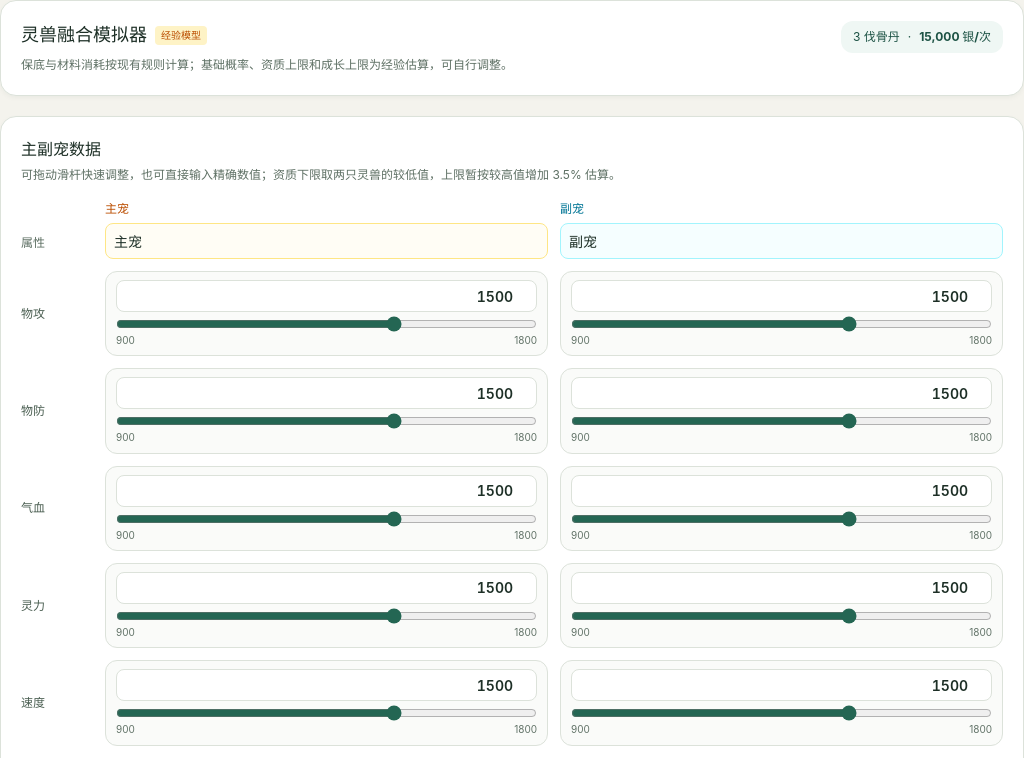
Test case: SpiritBeastFusionSimulator › 支持用滑杆调整主副宠资质，并与数字输入框保持同步
The width and height of the screenshot is (1024, 758).
Set the slider named "主宠物攻资质滑杆" to "1300" at (304, 324), box [116,320,537,328]
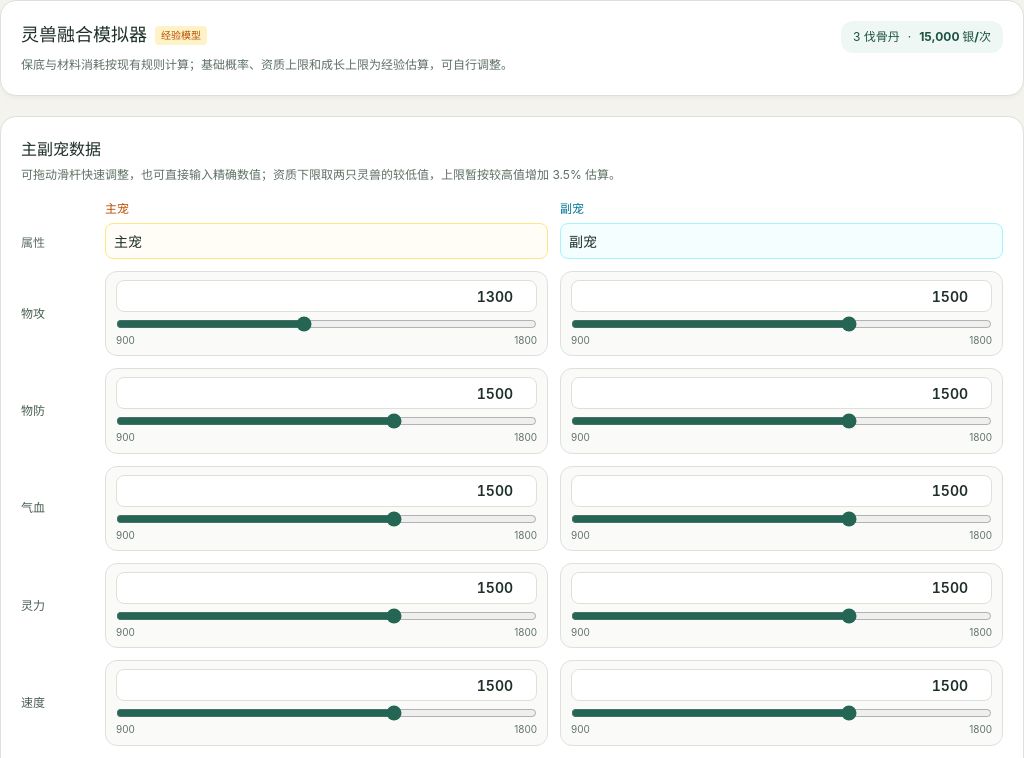
Expected: the number field named "主宠物攻资质" holds "1300", [116,280,537,312]
Replace the text in the number field named "副宠物攻资质" with "1450" at (782, 296), box [571,280,992,312]
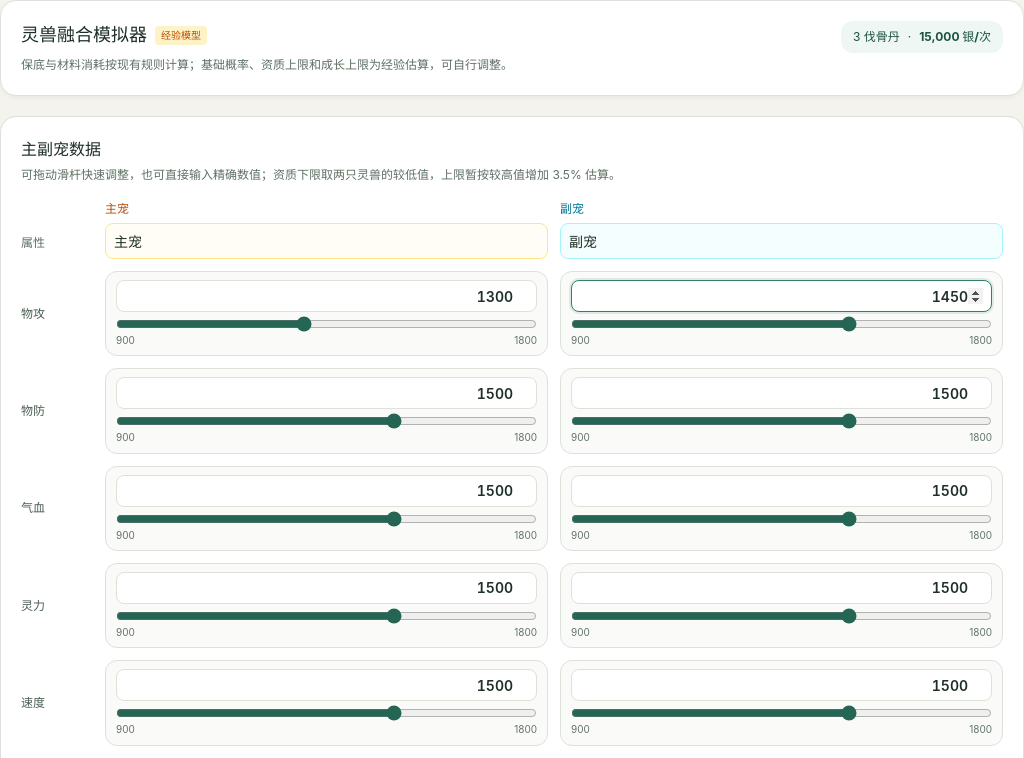
Press Tab
(page scrolled)
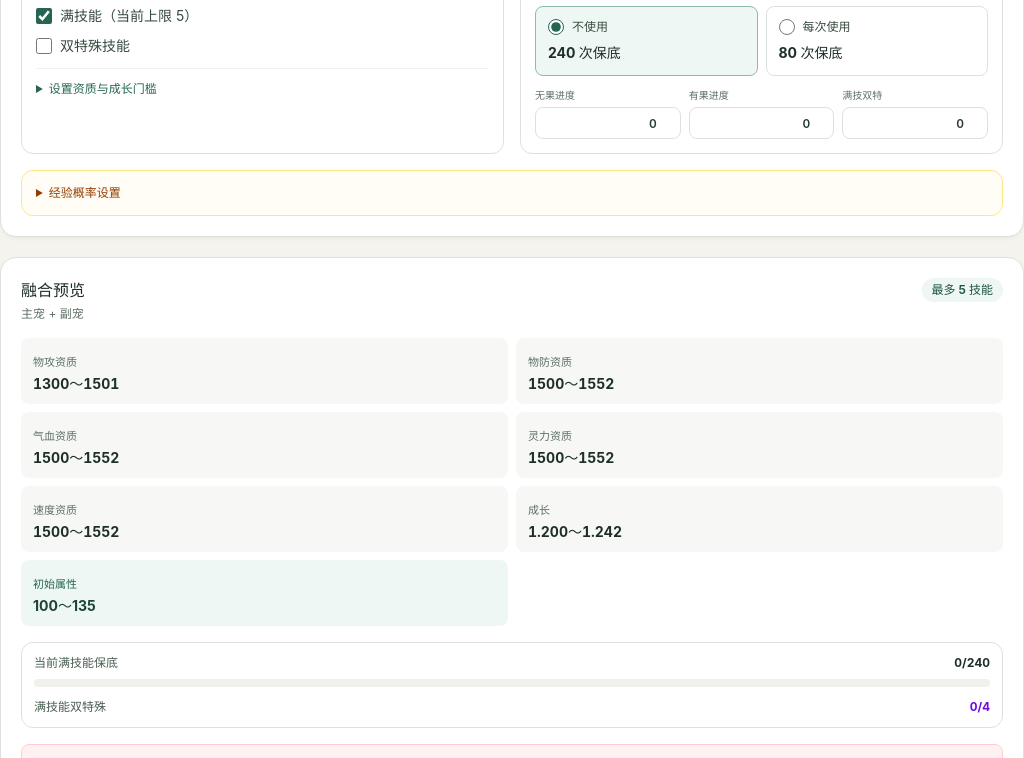
Expected: the text "1300～1501" is shown, [33,375,119,392]
